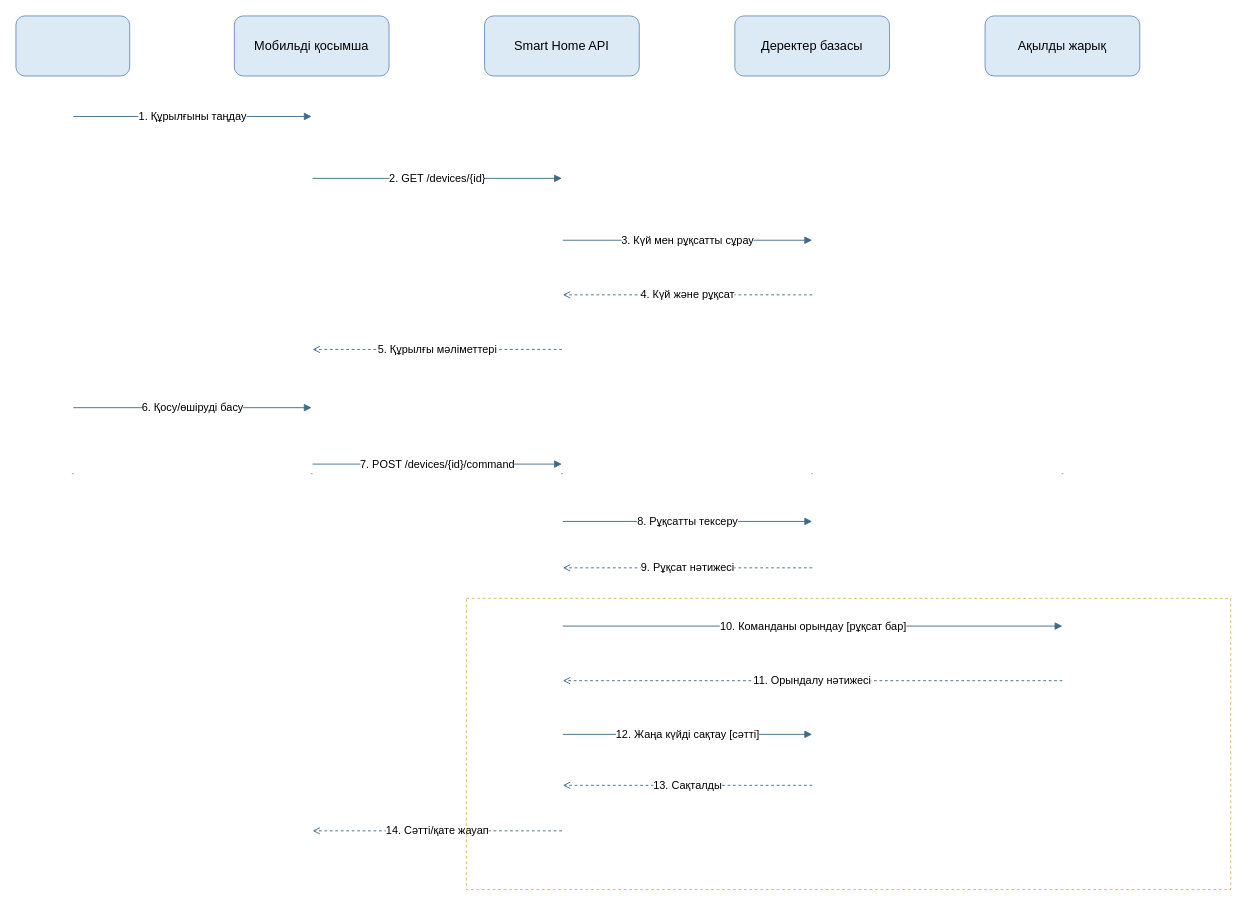
The diagram is 1247 pixels wide and 905 high, and some of its shapes have lost their labels. Each missing label, with the box of its shape:
alt [рұқсат бар және құрылғы жауап берді] / [рұқсат жоқ немесе қате]: (465, 597, 1231, 890)
Пайдаланушы: (15, 15, 130, 76)
